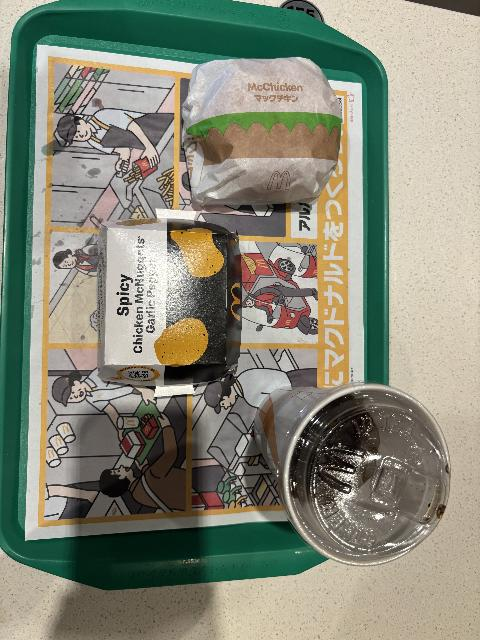burger: (181, 56, 343, 208)
drink: (253, 381, 452, 567)
nuggets: (97, 206, 242, 398)
